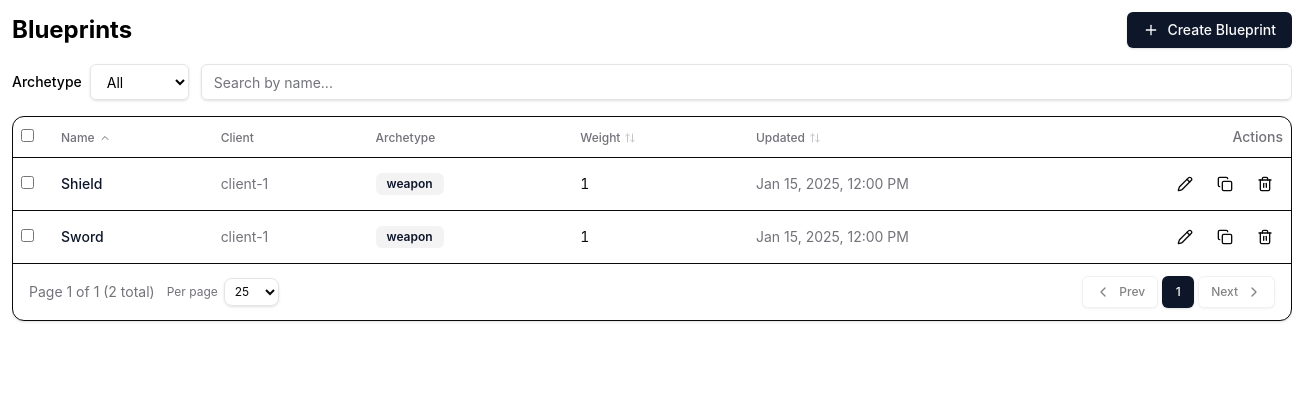
Blueprints list page › allows selecting individual rows via checkbox
This screenshot has width=1304, height=413.
Click the checkbox named "Select Sword" at (28, 235), box [21,228,34,242]
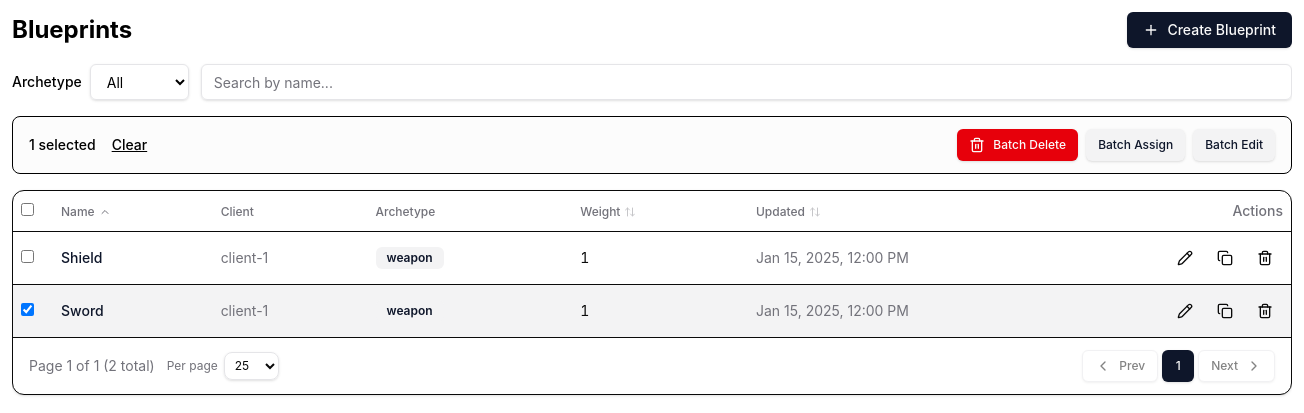
Result: the text "1 selected" is shown at [29,135,96,155]
